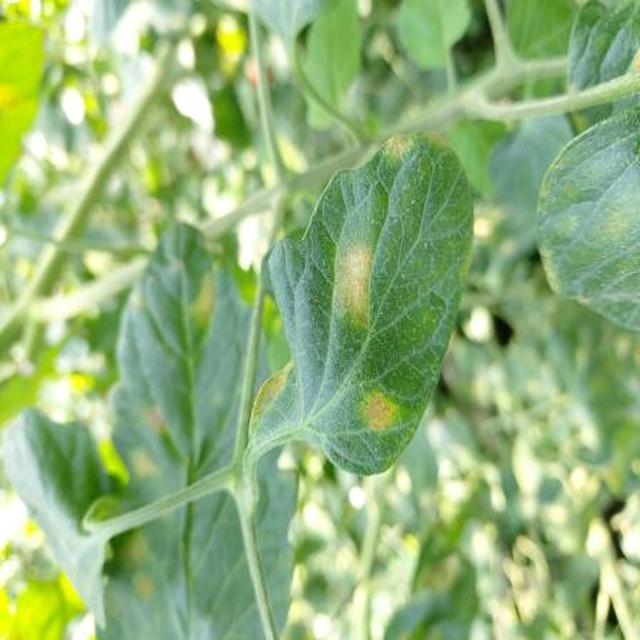Leaf Mold: (353, 185, 640, 640)
